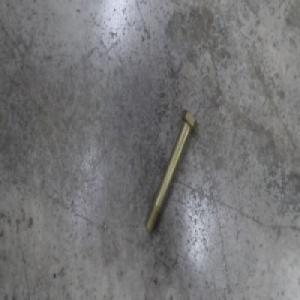Bolt: (143, 107, 197, 235)
